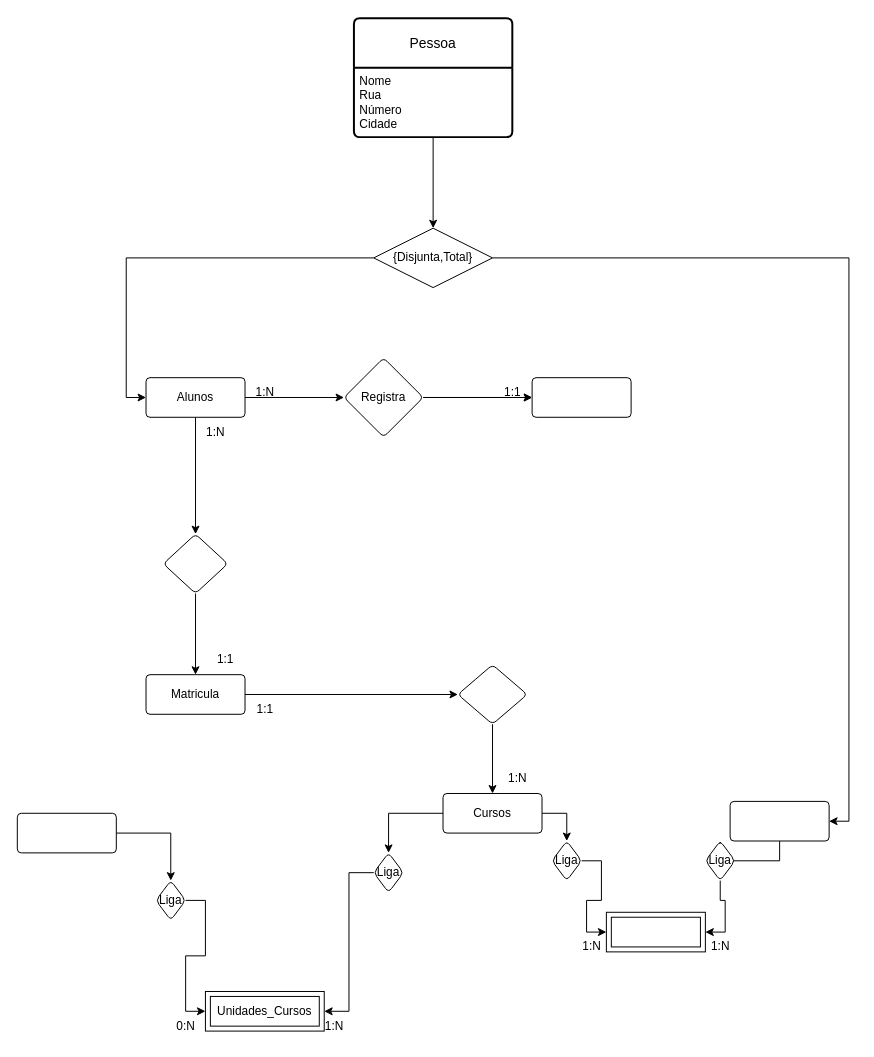
The diagram is 874 pixels wide and 1057 high, and some of its shapes have lost their labels. Each missing label, with the centre of its shape:
"Curso_Instrutor" belongs at [655,931].
"Faz" belongs at [195,563].
"Instrutores" belongs at [779,820].
"Seleciona" belongs at [492,694].
"Telefone" belongs at [581,397].
"Unidades" belongs at [66,832].
